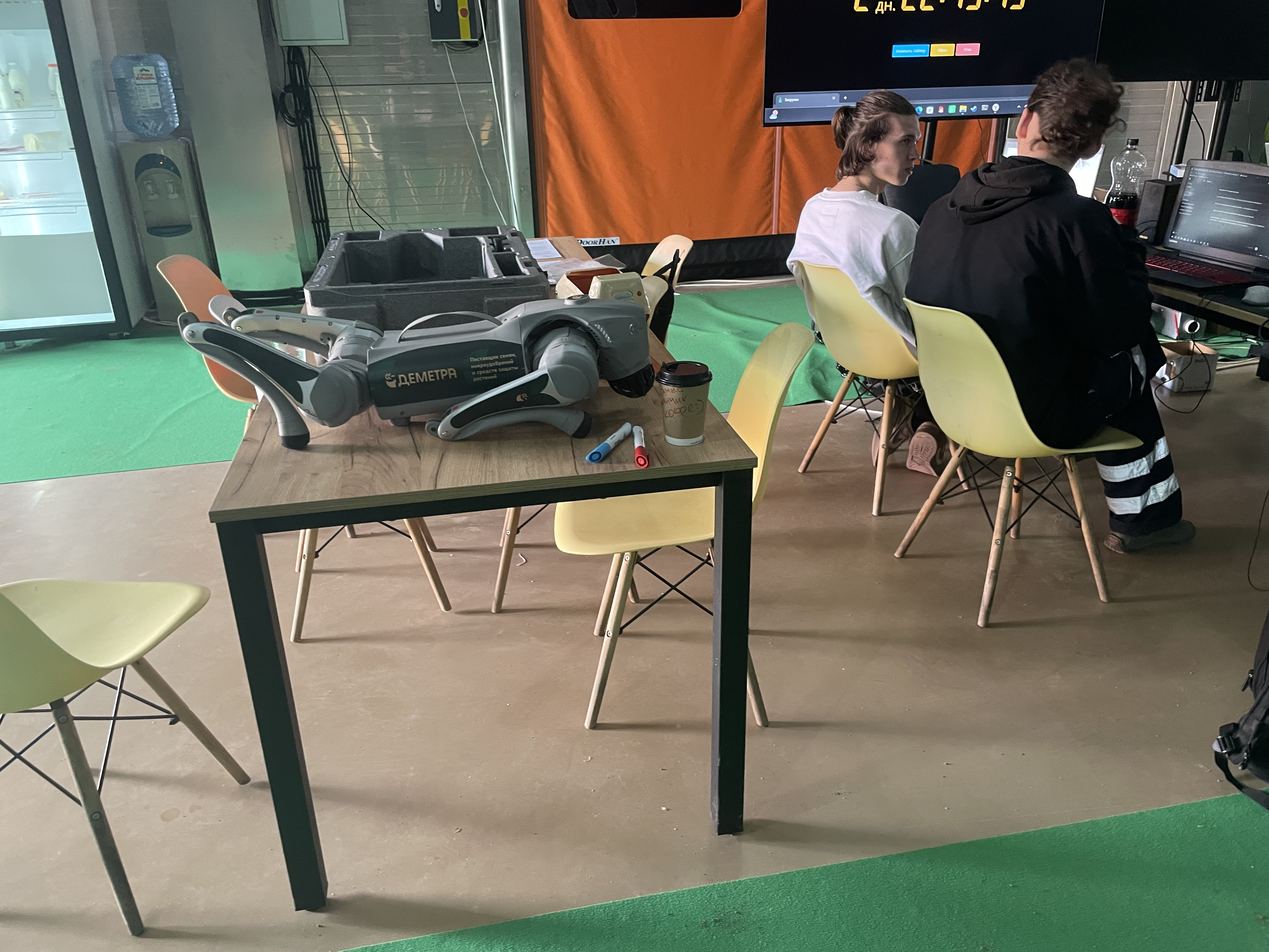cup: (655, 361, 713, 446)
